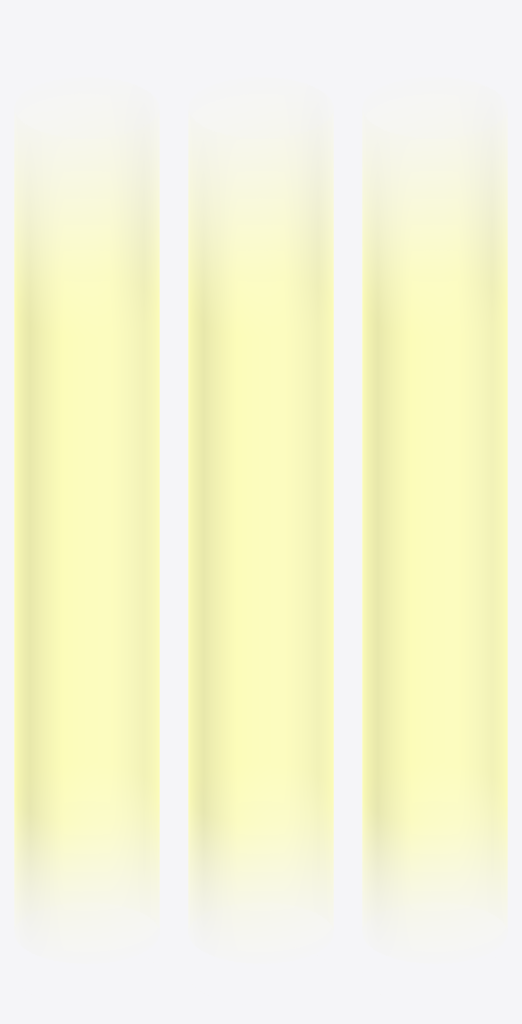
File: Ring.glb
3 views of the same model, side by side, from view 1: azimuth 30°, elevation 25°; view 2: azimuth 150°, elevation 25°; view 3: azimuth 270°, elevation 25° (orthographic).
Parts seen in each view (by area): view 1: Cylinder.001; view 2: Cylinder.001; view 3: Cylinder.001.
Boxes of the visible parts, x1,y1,x2,y2 form: Cylinder.001: [14, 138, 159, 910]; Cylinder.001: [188, 138, 333, 910]; Cylinder.001: [362, 139, 507, 910].
Bounding box in the file's own units: 31.25 × 222 × 31.25.
2 materials, 1 textured.
